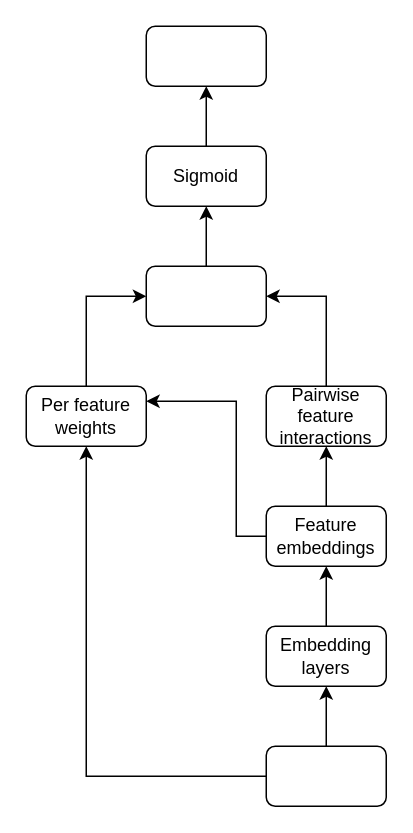
This 413x833 diagram has some shape labels left out. Here are the shapes that lost their labels. From the top down, the centre of each, then its label:
pixel 205 55: Probability
pixel 205 295: Concatenate
pixel 325 775: Sparse input features
